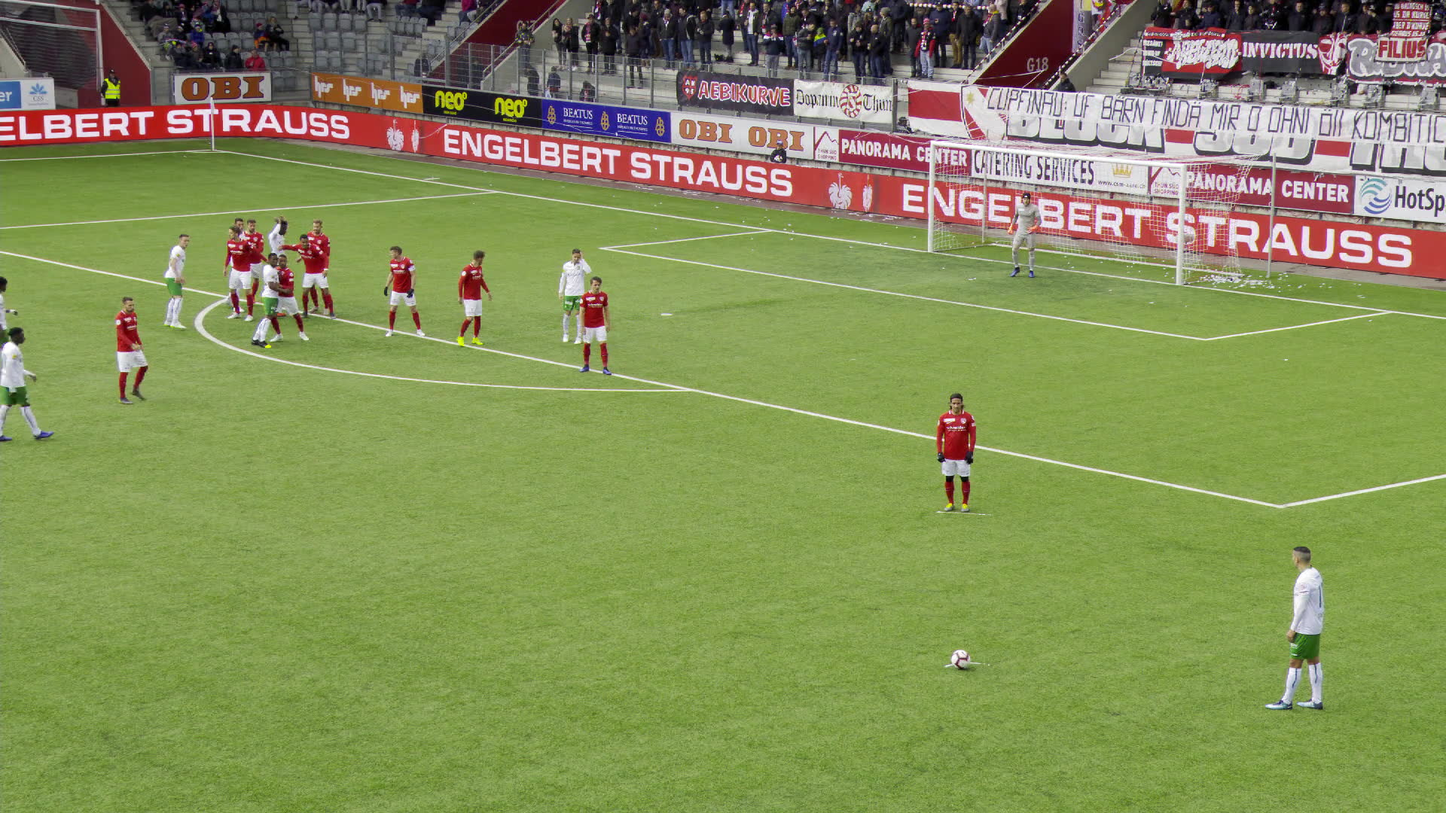ball: (949, 648, 972, 670)
player: (1261, 544, 1328, 712), (0, 324, 54, 442), (933, 390, 978, 513), (277, 232, 336, 320), (219, 224, 270, 321), (572, 274, 617, 376), (379, 243, 425, 339), (112, 294, 151, 404), (266, 253, 310, 343), (456, 248, 494, 349), (296, 218, 332, 315), (556, 247, 590, 345), (1006, 190, 1042, 279), (221, 215, 252, 314), (251, 251, 282, 349), (160, 233, 191, 330), (261, 215, 291, 308), (238, 217, 269, 306)
